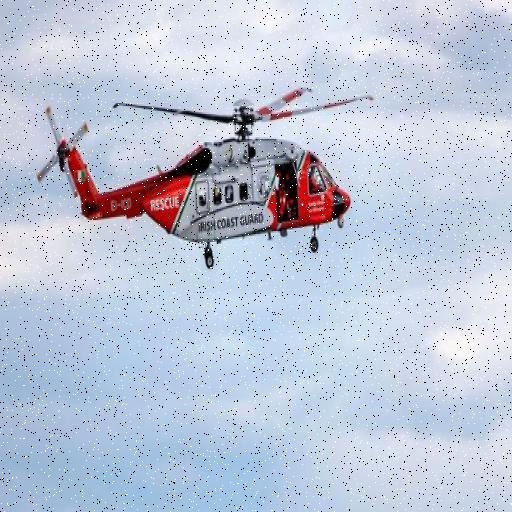helicopter: (27, 76, 379, 277)
